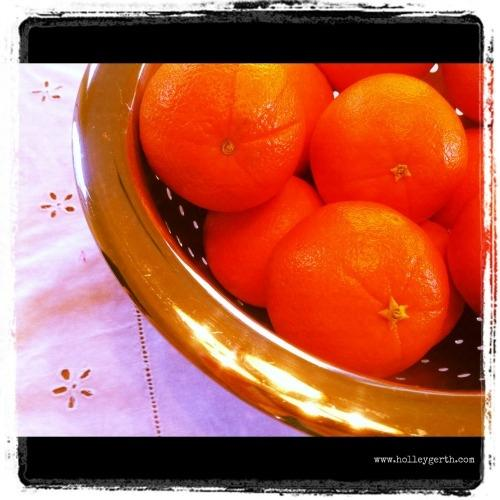orange: (264, 200, 449, 378), (140, 64, 304, 216), (309, 72, 468, 225), (202, 176, 324, 308), (428, 115, 485, 228), (278, 63, 334, 178), (420, 219, 466, 346), (445, 189, 485, 320), (316, 64, 435, 94), (438, 64, 483, 126)
